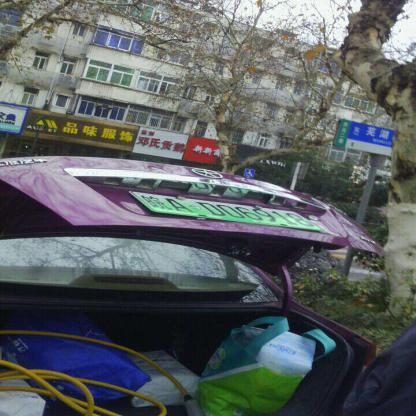lp: (130, 189, 326, 232)
